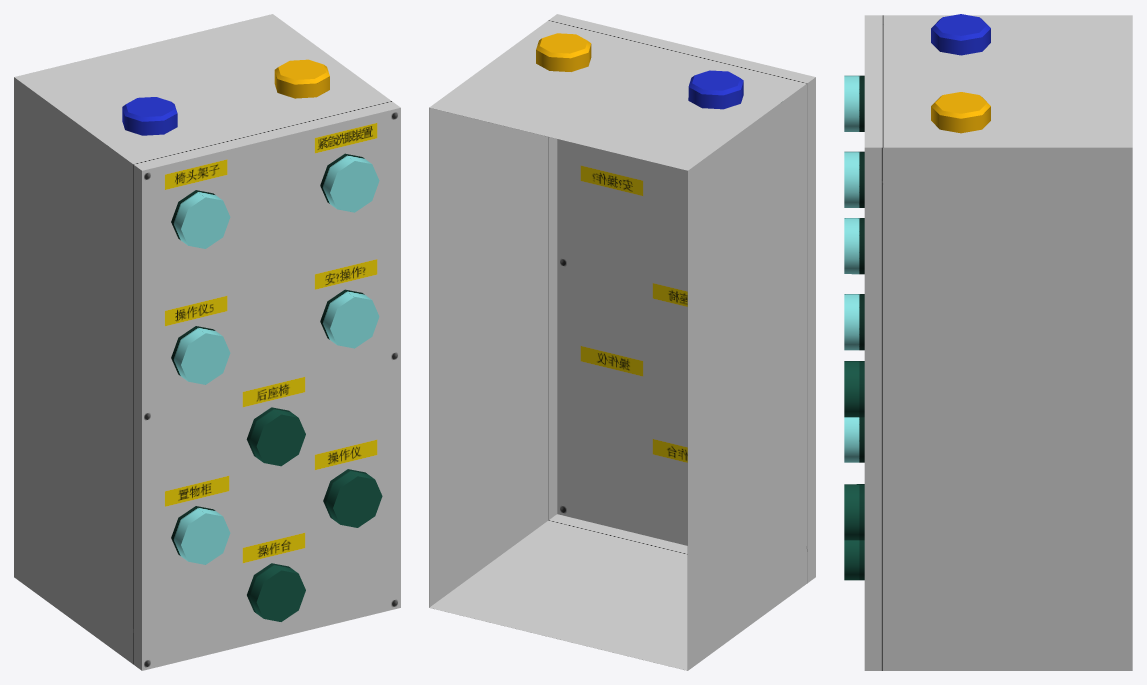
File: anniu01.FBX
3 views of the same model, side by side, from view 1: azimuth 30°, elevation 25°; view 2: azimuth 150°, elevation 25°; view 3: azimuth 270°, elevation 25° (orthographic). The views are drawn at different scales.
Visible parts, largest first — view 1: YF_Model_anniu01; view 2: YF_Model_anniu01; view 3: YF_Model_anniu01.
Boxes of the visible parts, x1,y1,x2,y2 form: YF_Model_anniu01: (14, 14, 400, 670); YF_Model_anniu01: (429, 14, 815, 670); YF_Model_anniu01: (844, 14, 1132, 670).
Size of the model in its own units: 35.03 by 66.9 by 32.32.
